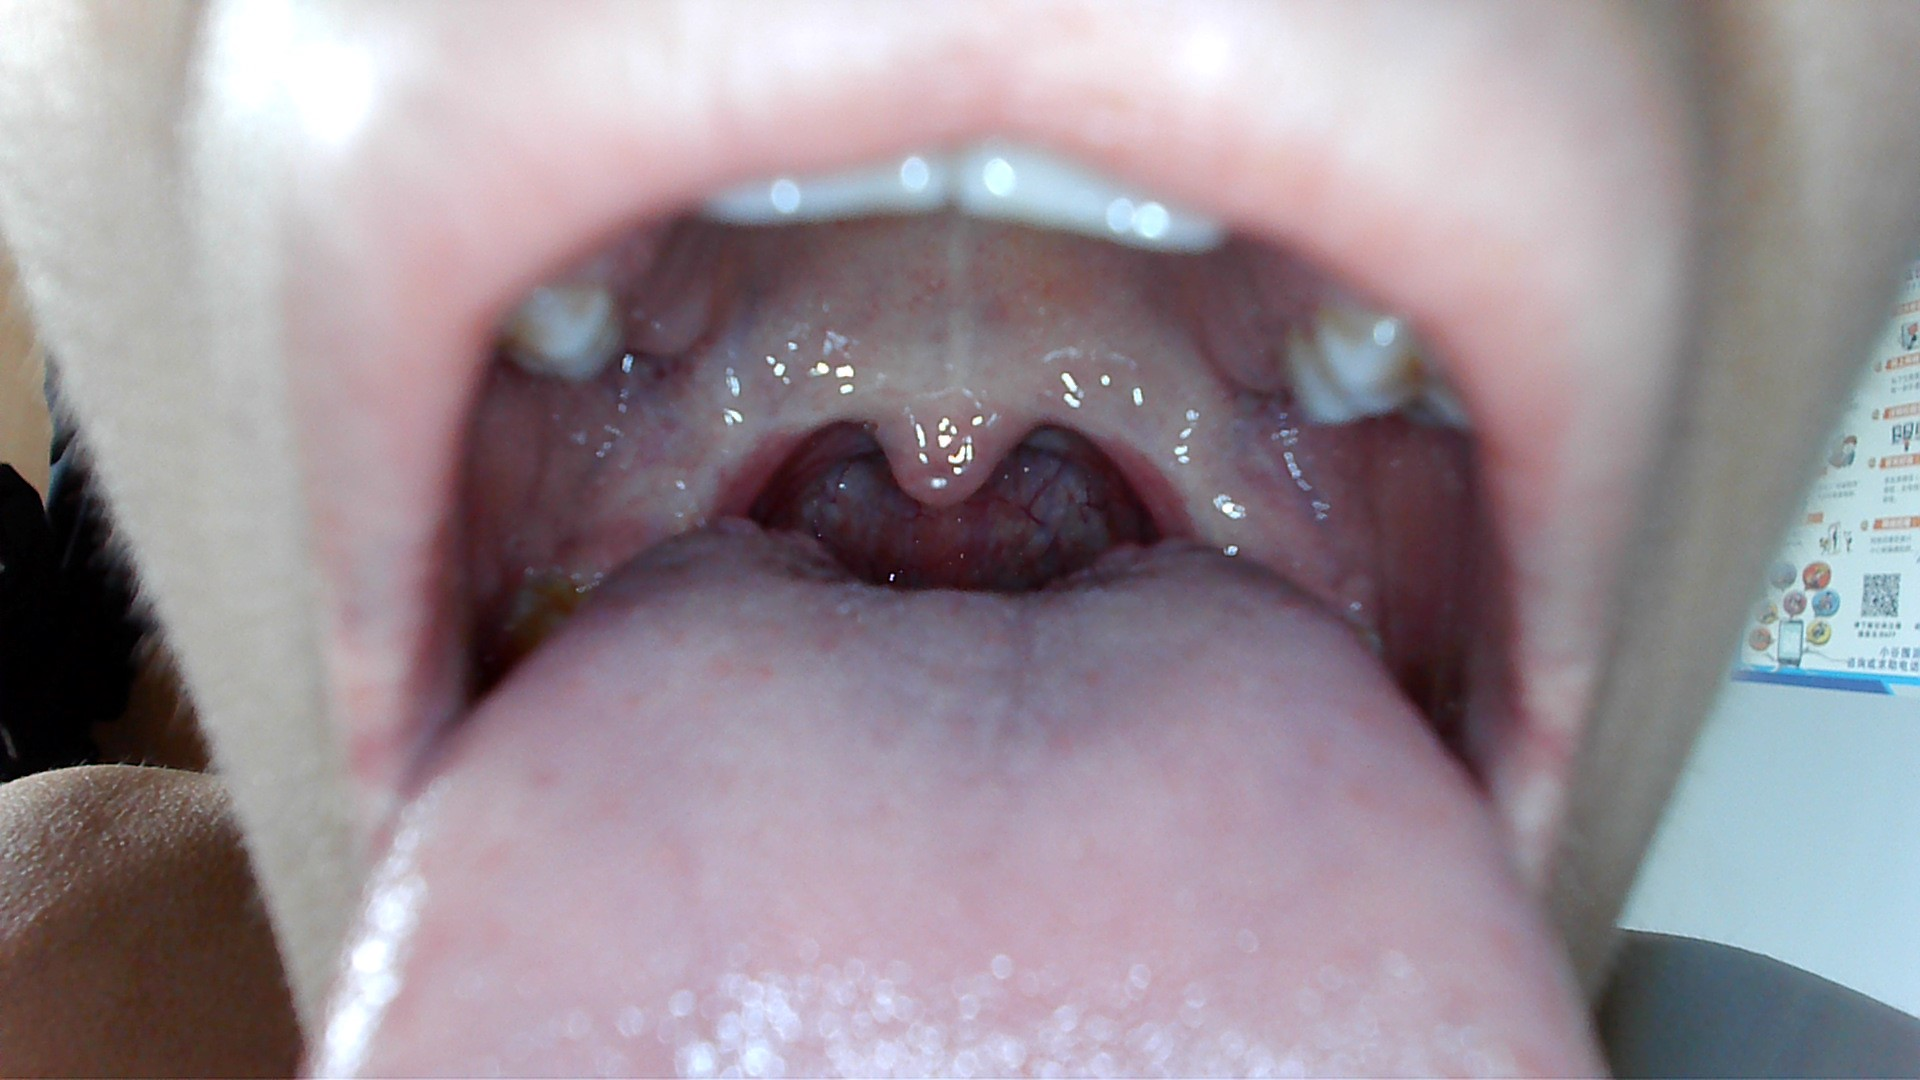throat: (1114, 368, 1246, 545), (618, 396, 782, 520)
